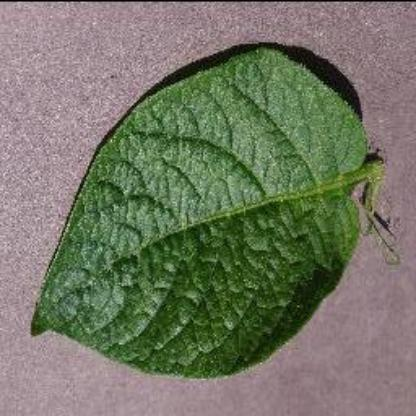Healthy-plant: (31, 38, 385, 380)
